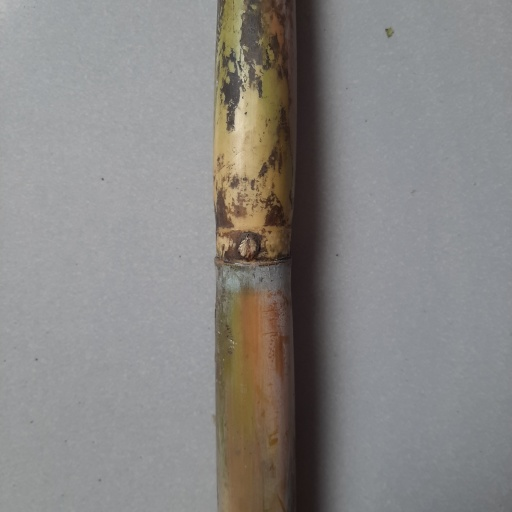Bud: (236, 235, 259, 260)
